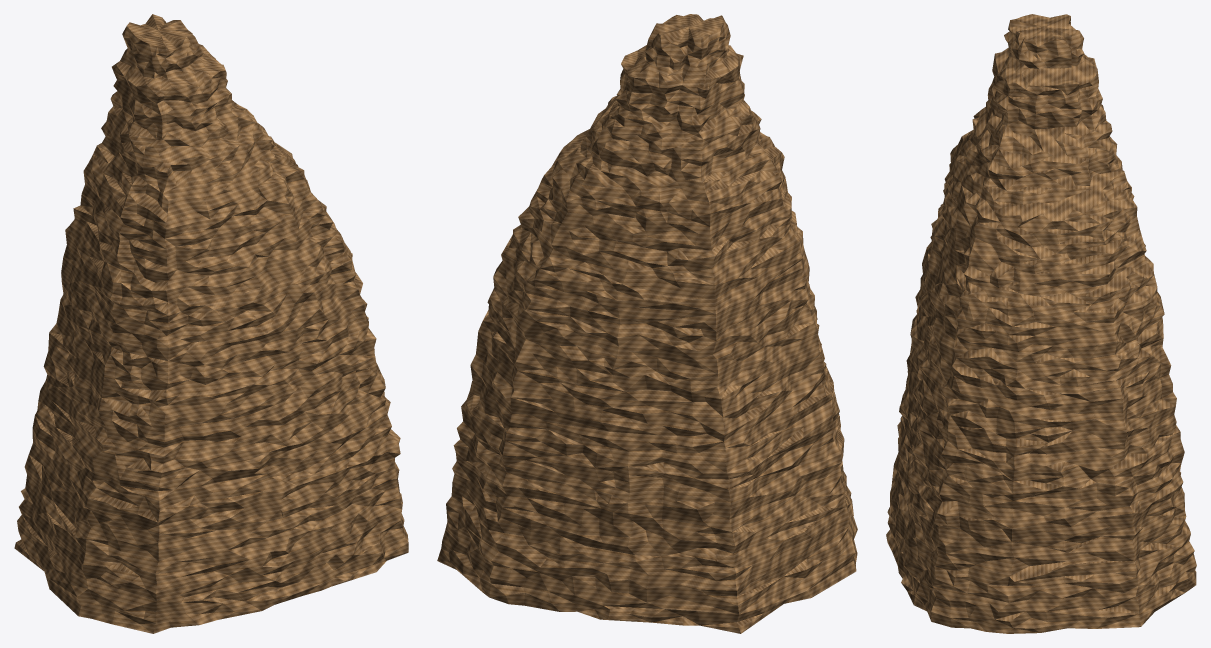
Rendered from 0002_02_wimlah_tapered_fractured_buttress.dae.
3 views of the same model, side by side, from view 1: azimuth 30°, elevation 25°; view 2: azimuth 150°, elevation 25°; view 3: azimuth 270°, elevation 25° (orthographic). The views are drawn at different scales.
Parts seen in each view (by area): view 1: Node; view 2: Node; view 3: Node.
Boxes of the visible parts, <box> form: Node: <box>14,14,408,633</box>; Node: <box>437,14,857,633</box>; Node: <box>886,14,1196,633</box>.
Bounding box in the file's own units: 16.82 × 13.94 × 25.35.
1 material, 1 textured.
